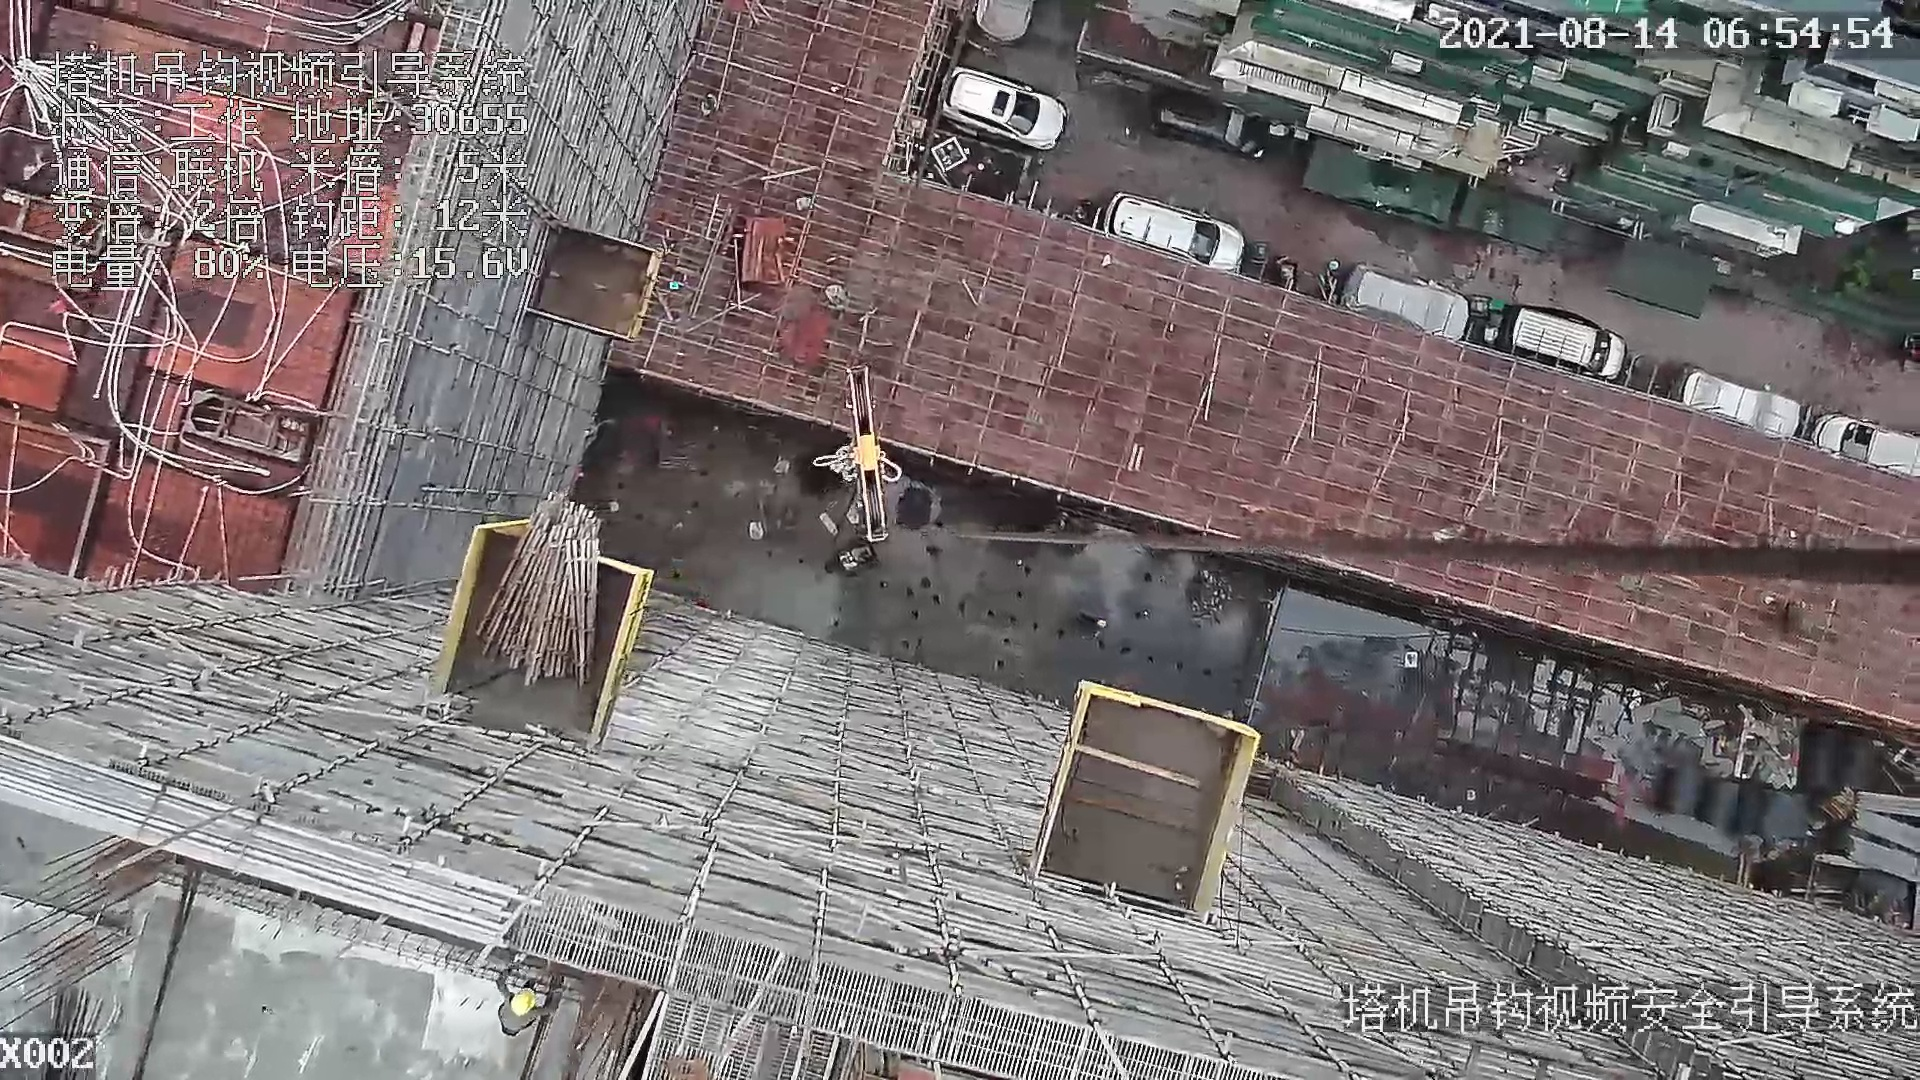helmet: (511, 988, 535, 1016)
hook: (827, 353, 905, 545)
person: (482, 959, 563, 1041)
rebar: (1, 741, 519, 946)
scaffold: (475, 494, 600, 686)
